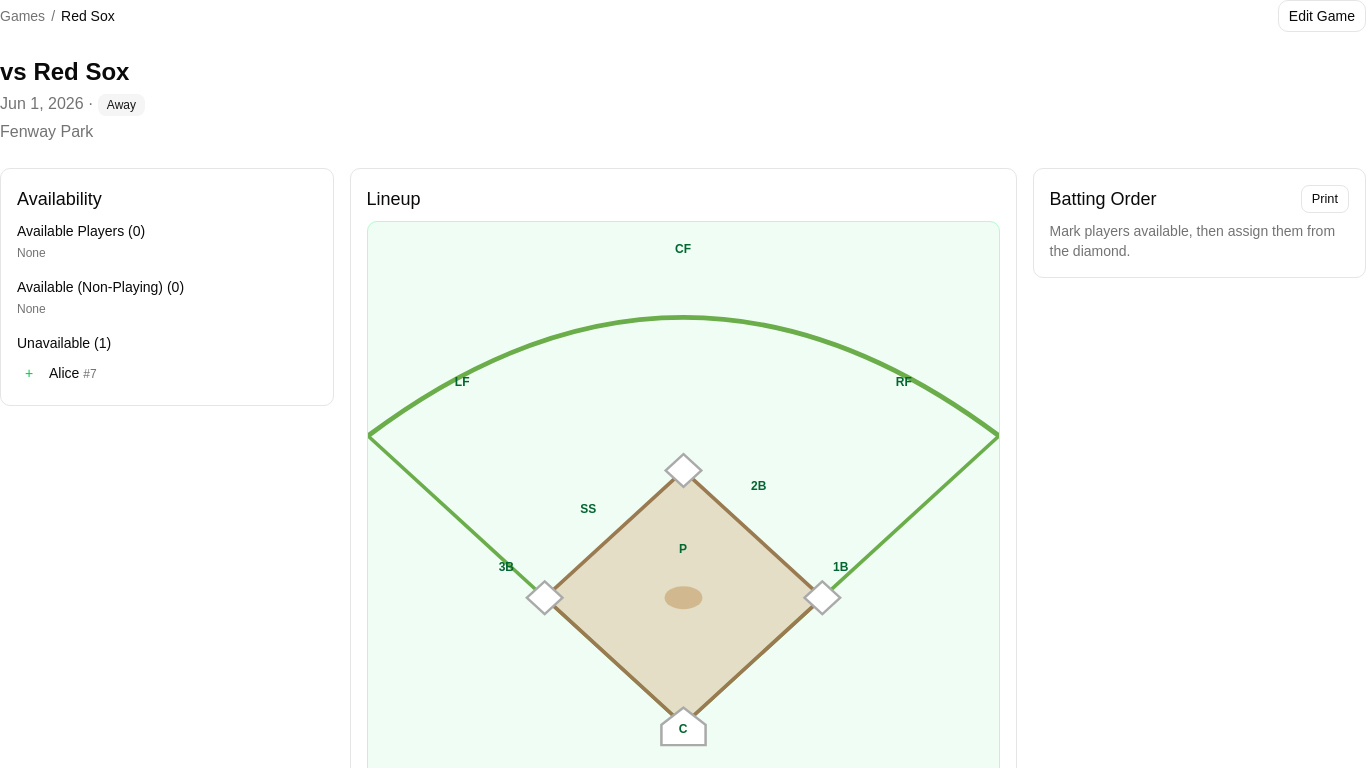
Test case: GameDetailPage › "Edit Game" button opens dialog pre-filled
Check: the heading "vs Red Sox" is shown, box [0,58,129,85]
Click the button "Edit Game": x=1322, y=16 [1278,0,1365,32]
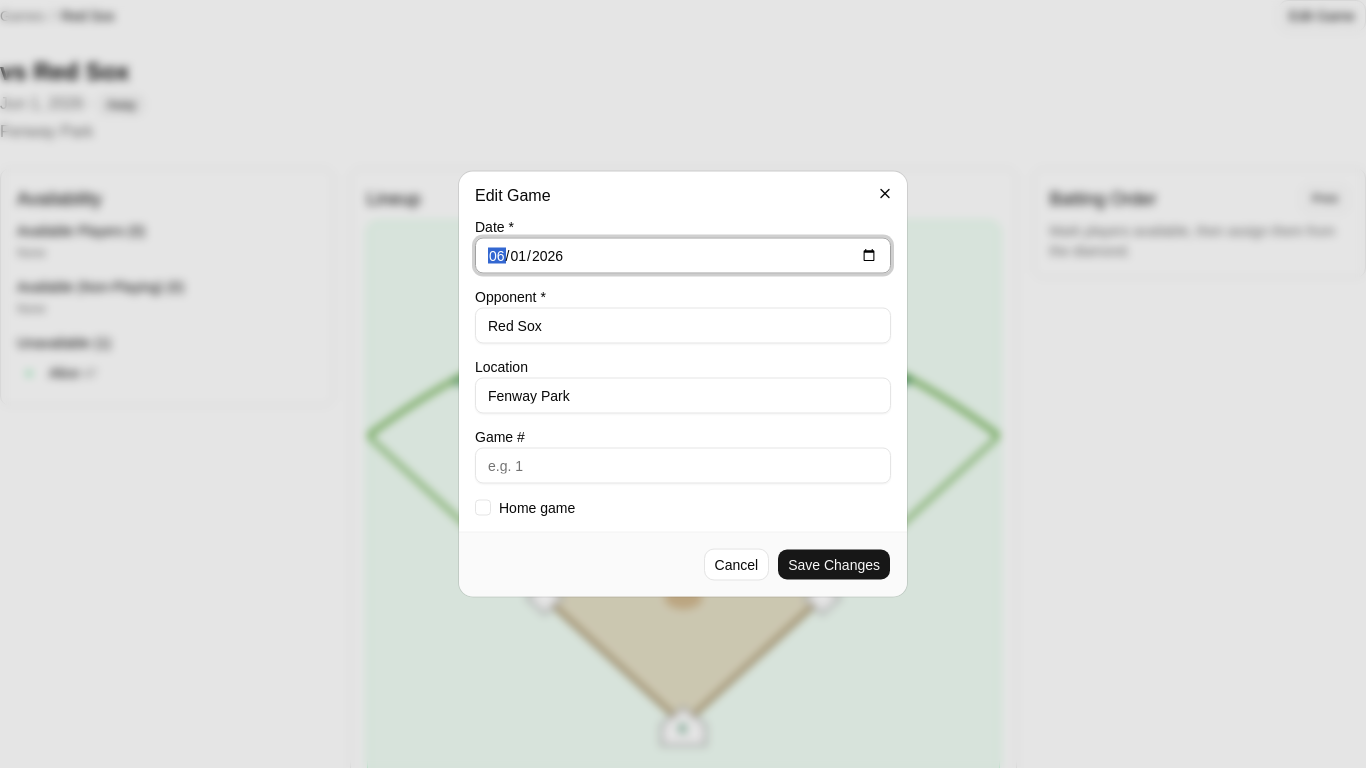
Check: the heading "Edit Game" is shown, box [475,186,551,204]
Check: the field showing "Red Sox" is shown, box [475,308,891,344]
